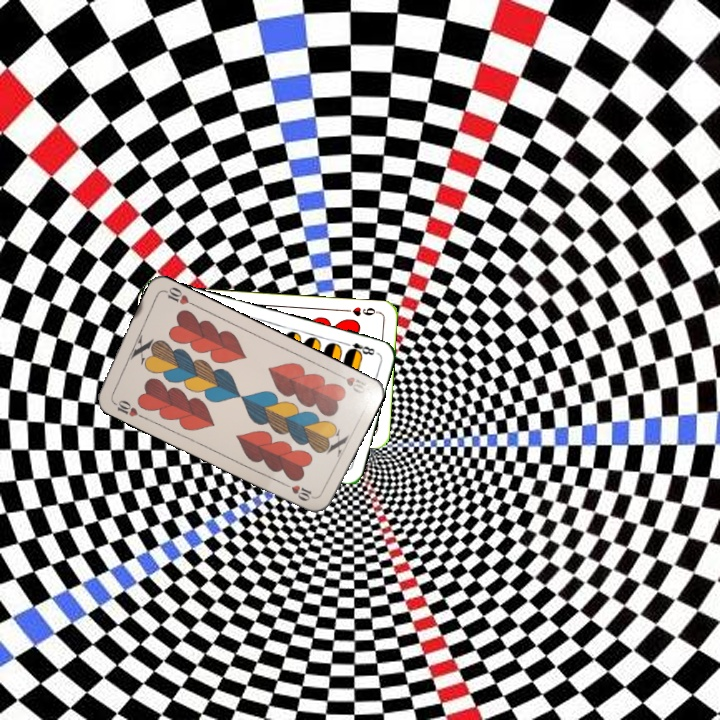E8: (340, 338, 377, 358)
H10: (332, 369, 371, 396), (108, 396, 140, 420)
H9: (341, 303, 381, 318)
